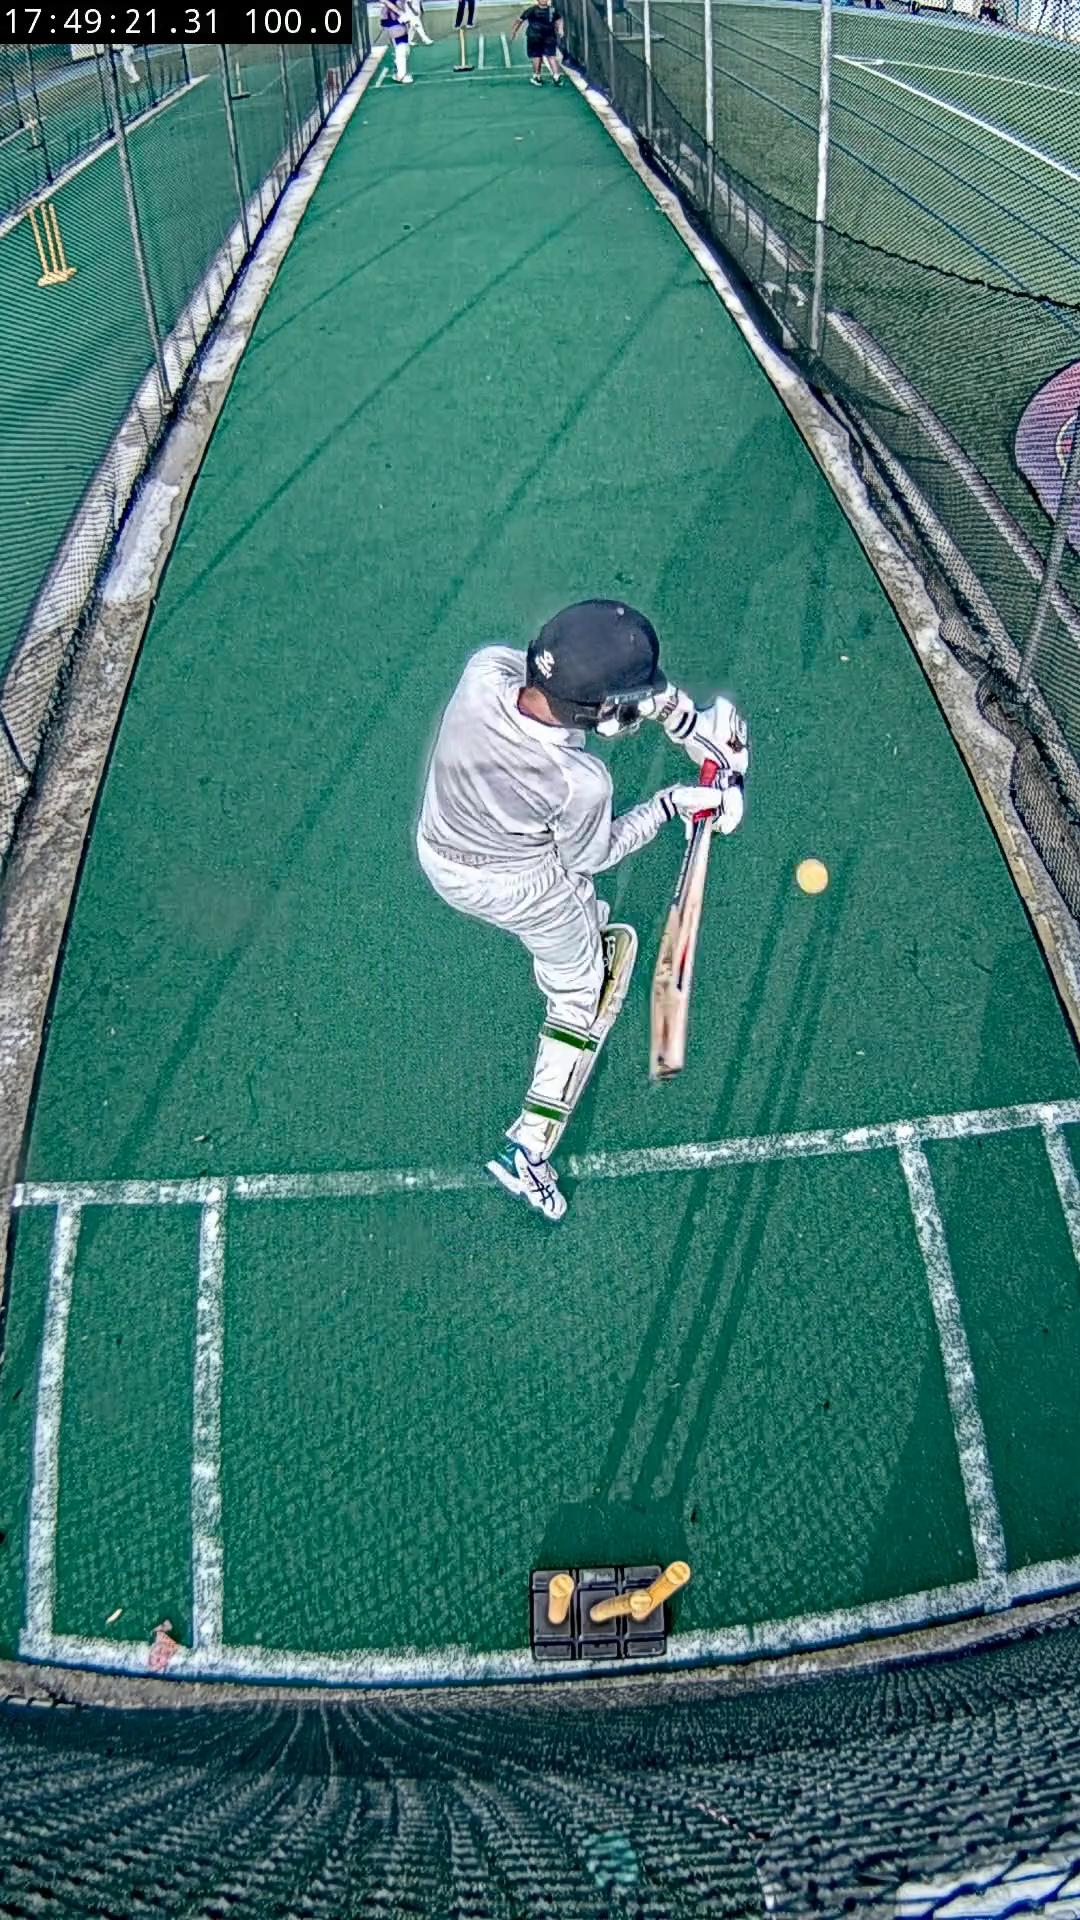ball: (795, 858, 828, 897)
bat: (649, 814, 712, 1080)
gloves: (657, 769, 742, 832), (683, 698, 750, 777)
helmet: (525, 600, 667, 735)
pads: (566, 923, 637, 1110)
stumps: (533, 1564, 690, 1662)
